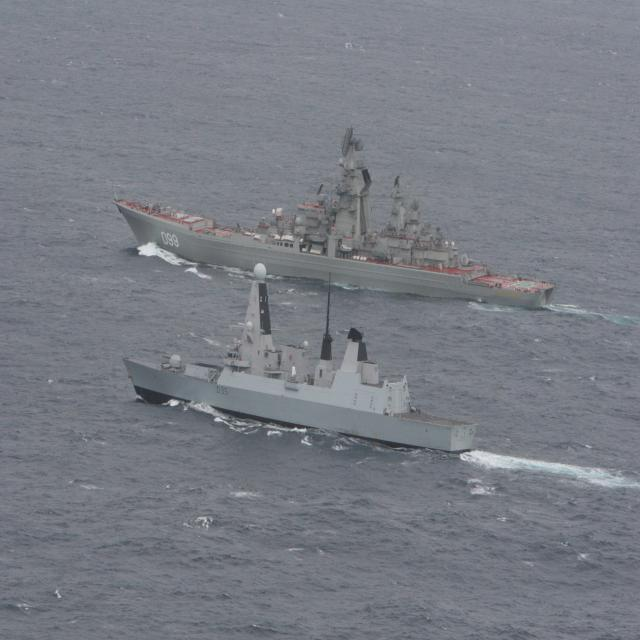navalvessels: (116, 101, 566, 324), (99, 233, 484, 454)
